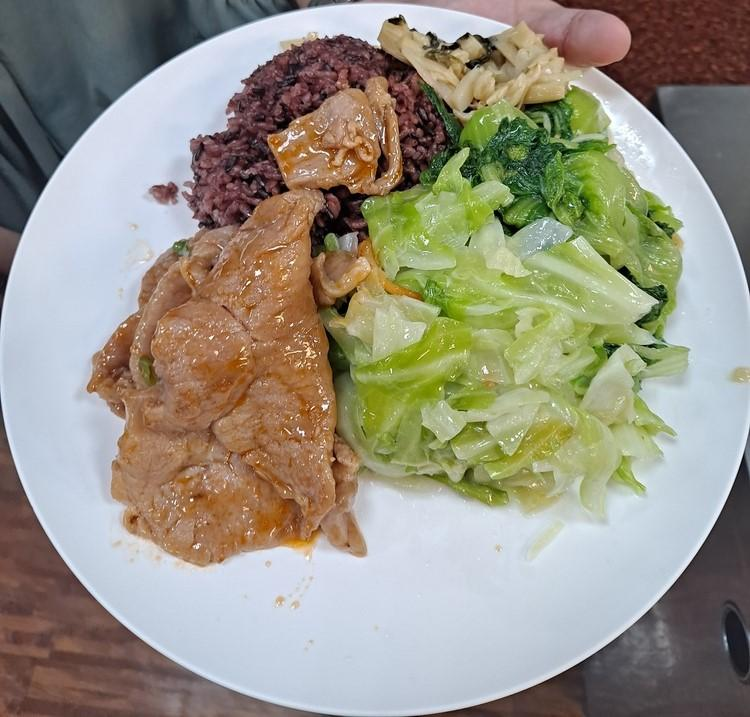big fried chicken leg: (0, 2, 750, 717)
braised fish: (191, 34, 444, 235)
braised fish fillet: (340, 167, 665, 507), (447, 87, 680, 317), (379, 10, 570, 116)
braised pork: (99, 80, 404, 561)
